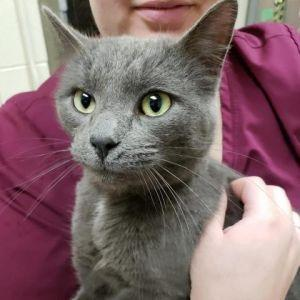rblue: (27, 1, 245, 205)
